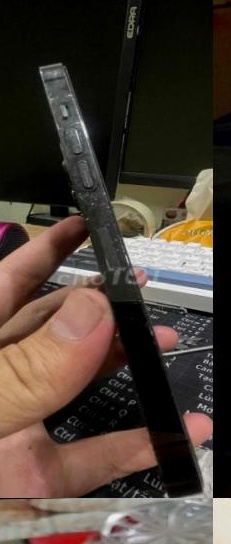scratch: (34, 64, 142, 287)
